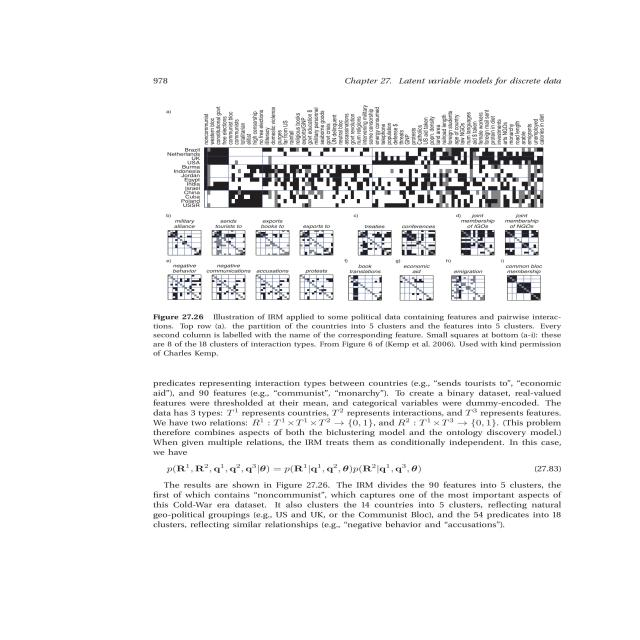diagram: (139, 92, 618, 366)
